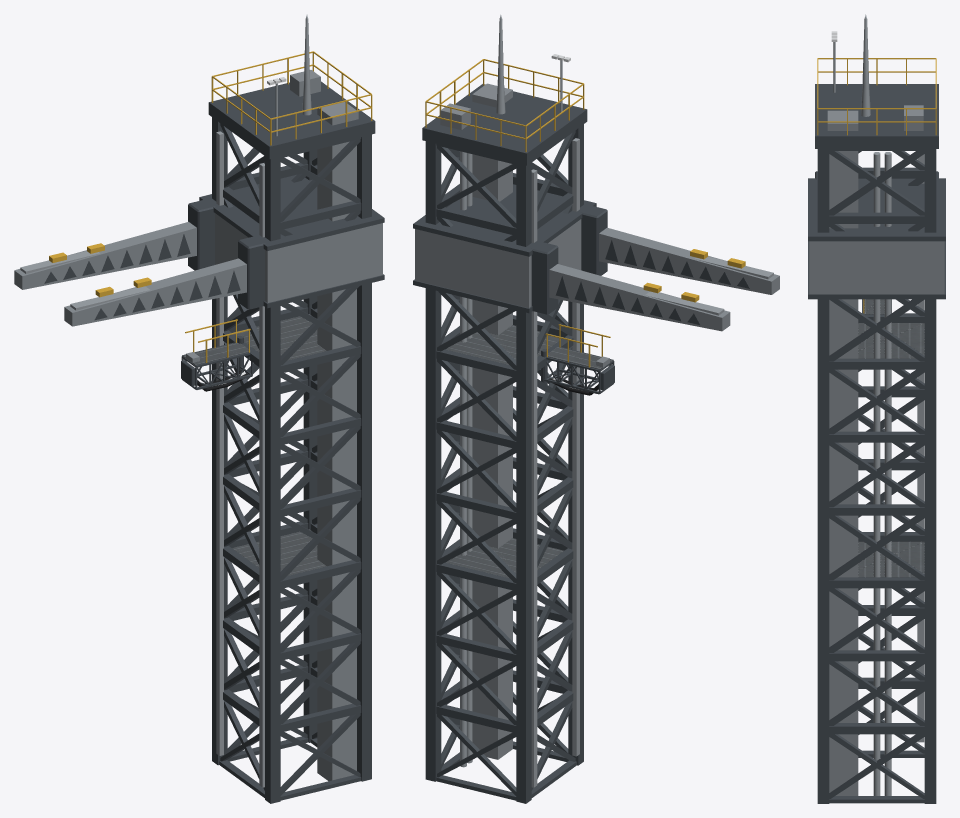
Rendered from catch_tower.glb.
3 views of the same model, side by side, from view 1: azimuth 30°, elevation 25°; view 2: azimuth 150°, elevation 25°; view 3: azimuth 270°, elevation 25° (orthographic). The views are drawn at different scales.
Parts seen in each view (by area): view 1: body, pose_carriage, pose_chopstick_b, pose_chopstick_a, head, pose_arm_qd; view 2: body, pose_carriage, pose_chopstick_a, pose_chopstick_b, head, pose_arm_qd; view 3: body, pose_carriage, head, pose_arm_qd.
Boxes of the visible parts, x1,y1,x2,y2 form: body: [208, 81, 375, 803]; pose_carriage: [188, 174, 384, 309]; pose_chopstick_b: [64, 258, 246, 326]; pose_chopstick_a: [14, 221, 196, 289]; head: [211, 14, 372, 145]; pose_arm_qd: [181, 319, 252, 391]; body: [422, 83, 587, 803]; pose_carriage: [413, 184, 607, 314]; pose_chopstick_a: [549, 264, 730, 331]; pose_chopstick_b: [599, 227, 779, 294]; head: [425, 14, 584, 151]; pose_arm_qd: [541, 324, 614, 395]; body: [815, 84, 938, 803]; pose_carriage: [808, 171, 945, 299]; head: [817, 14, 936, 135]; pose_arm_qd: [862, 299, 891, 314].
Bounding box in the file's own units: 12.95 × 30.5 × 4.95.
7 materials, 1 textured.
